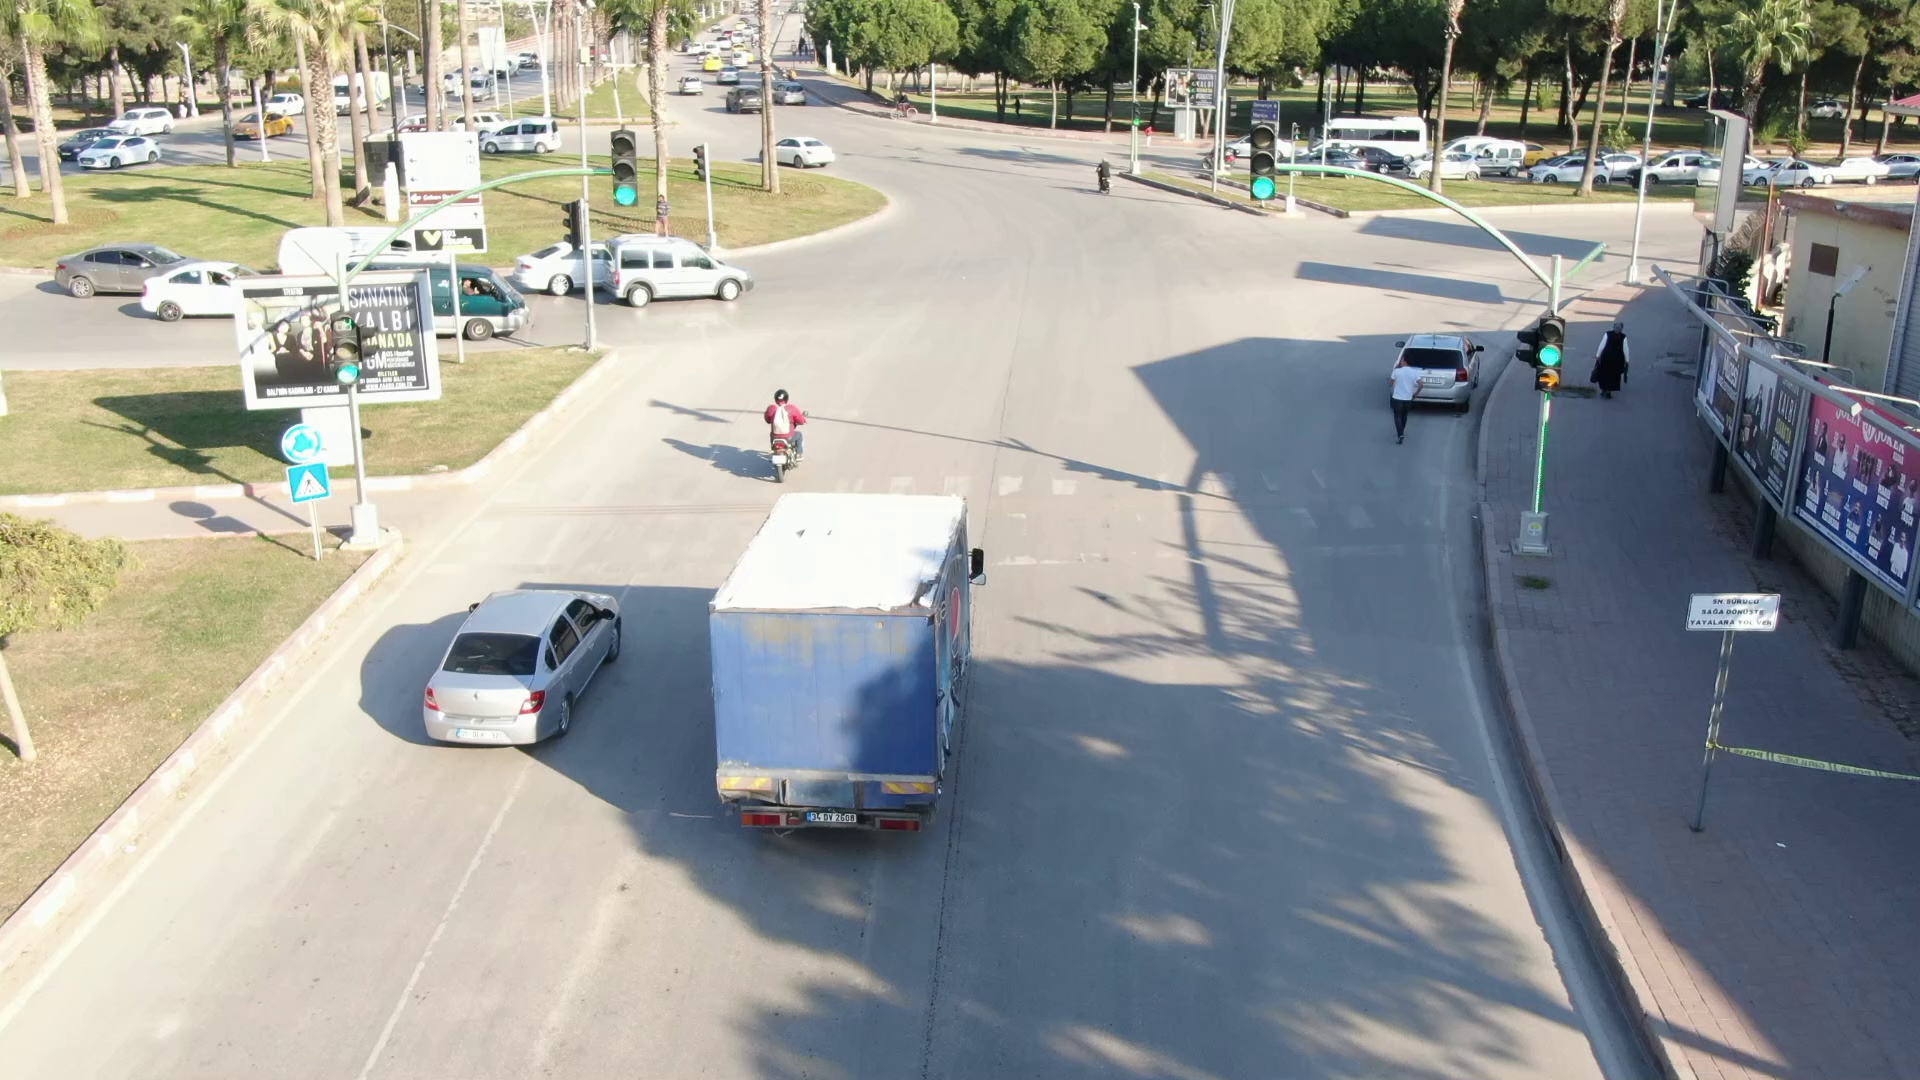car: (412, 547, 654, 776), (593, 224, 758, 315), (43, 229, 208, 309), (476, 113, 573, 158), (71, 129, 173, 171), (1521, 152, 1615, 190), (765, 129, 838, 171), (1407, 149, 1483, 185)
person: (754, 383, 816, 464), (1586, 313, 1634, 405), (1384, 349, 1423, 449)
